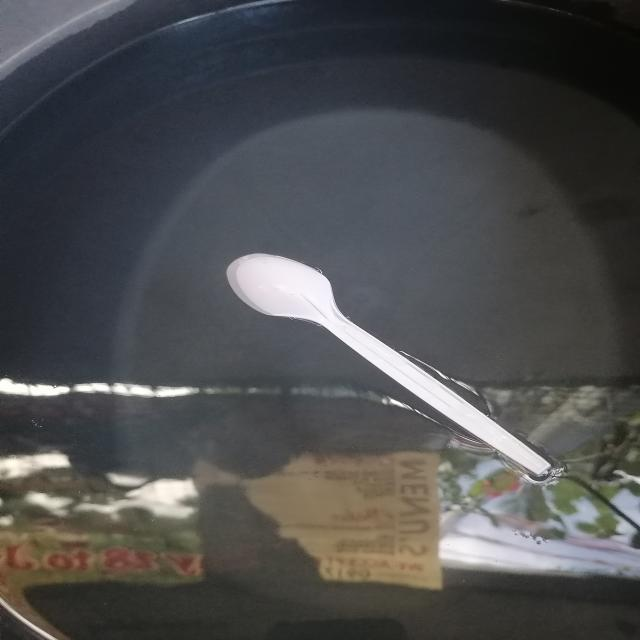Plastic Spoon: (213, 238, 568, 493)
